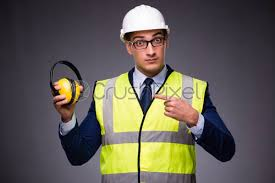Person_wearing_helmet: (113, 1, 175, 55)
